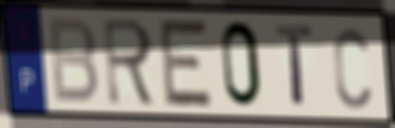0: (218, 19, 264, 111)
B: (45, 15, 100, 106)
C: (331, 25, 373, 111)
E: (158, 17, 214, 110)
R: (101, 16, 159, 109)
T: (273, 23, 316, 110)
